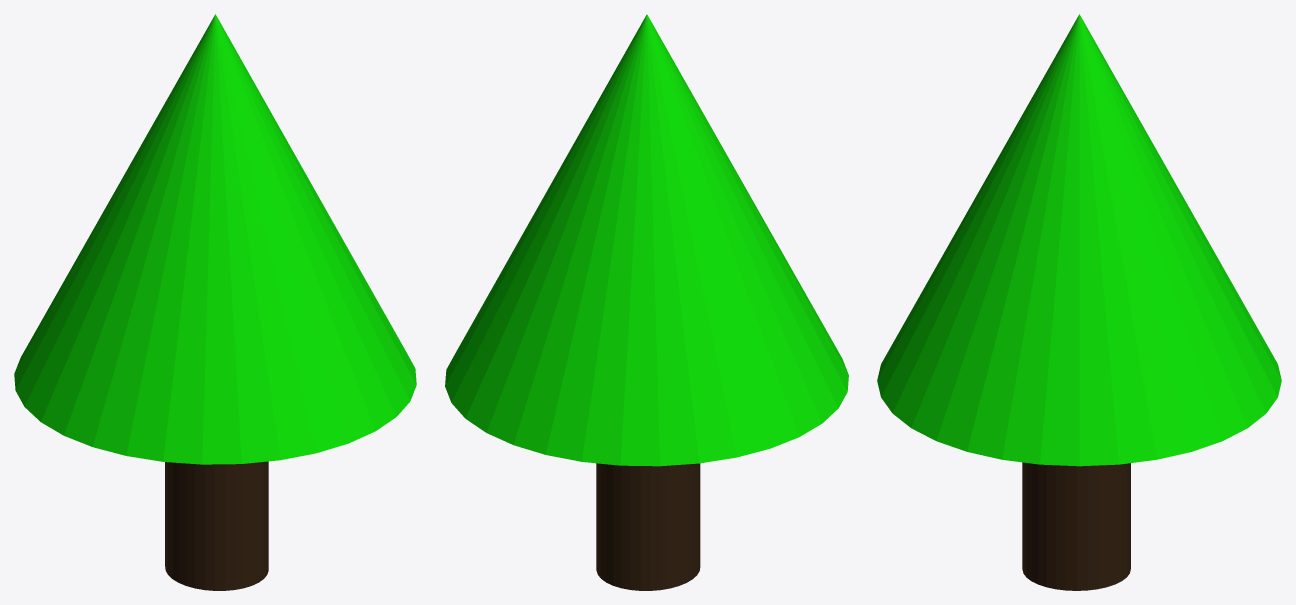
File: siyouzyu.fbx
The picture shows the model from 3 angles, left to right: view 1: azimuth 30°, elevation 25°; view 2: azimuth 150°, elevation 25°; view 3: azimuth 270°, elevation 25°; orthographic projection.
Parts seen in each view (by area): view 1: Cube; view 2: Cube; view 3: Cube.
Boxes of the visible parts, x1,y1,x2,y2 form: Cube: (14,14,416,590); Cube: (445,14,848,590); Cube: (877,14,1281,590).
Bounding box in the file's own units: 200 × 303 × 200.
